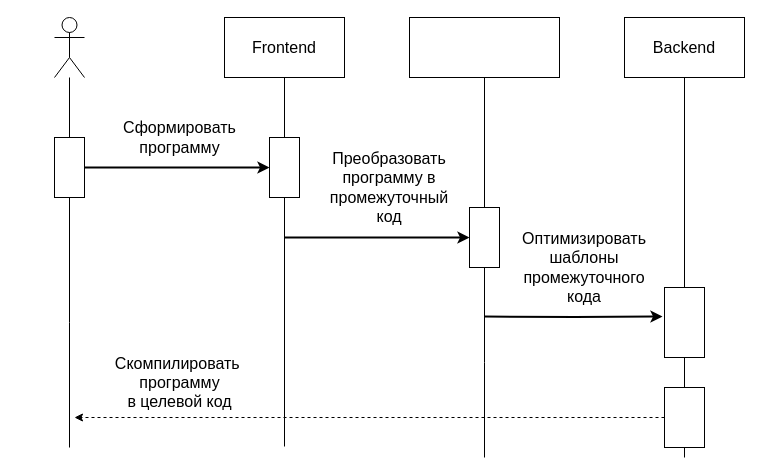
Image size: 762x476. Some labels were removed from this diagram. Here are the shapes that lost their labels. From the top down, the box of each, then its label:
(54, 16, 84, 78): Пользователь
(408, 16, 560, 78): Промежуточное представление
